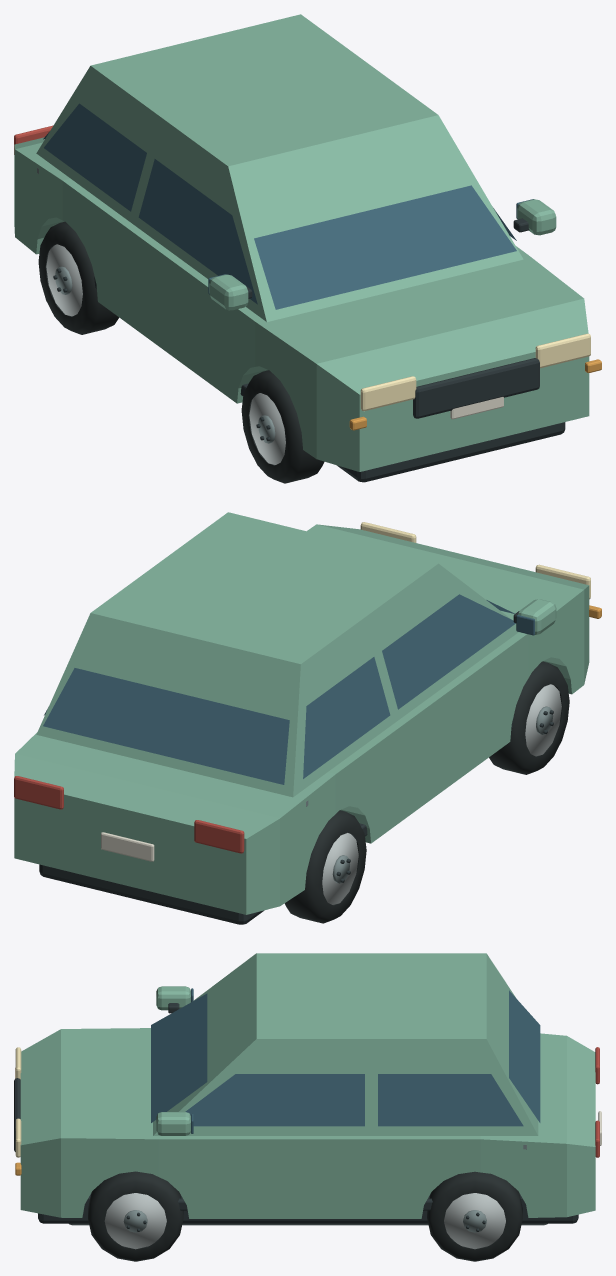
Rendered from original-car-hatch-01.glb.
3 views of the same model, one above another, from view 1: azimuth 30°, elevation 25°; view 2: azimuth 150°, elevation 25°; view 3: azimuth 270°, elevation 25° (orthographic). The views are drawn at different scales.
Visible parts, largest first — view 1: BodyShell, CabinShell, Windscreen, WindowFront, WindowRear, Grille, Tyre_FR, Tyre_RR, Frame, Rim_FR, Rim_RR, Headlamp (+3 smaller); view 2: BodyShell, CabinShell, RearGlass, WindowFront, WindowRear, Tyre_RR, Tyre_FR, Frame, Rim_FR, Rim_RR, TailLamp, TailLamp.001 (+2 smaller); view 3: BodyShell, CabinShell, WindowFront.001, WindowRear.001, Windscreen, Tyre_FL, Tyre_RL, RearGlass, Rim_RL, Rim_FL, Frame, Underbody (+2 smaller).
Boxes of the visible parts, x1,y1,x2,y2 form: BodyShell: [14, 137, 589, 471]; CabinShell: [36, 14, 523, 321]; Windscreen: [254, 185, 516, 309]; WindowFront: [138, 159, 257, 304]; WindowRear: [44, 103, 146, 211]; Grille: [413, 358, 539, 418]; Tyre_FR: [241, 370, 324, 483]; Tyre_RR: [38, 221, 118, 334]; Frame: [337, 422, 565, 482]; Rim_FR: [249, 393, 285, 464]; Rim_RR: [46, 244, 82, 316]; Headlamp: [360, 376, 416, 411]; BodyShell: [14, 524, 589, 914]; CabinShell: [36, 512, 518, 797]; RearGlass: [43, 668, 289, 784]; WindowFront: [382, 594, 515, 709]; WindowRear: [303, 657, 390, 778]; Tyre_RR: [284, 810, 366, 923]; Tyre_FR: [489, 661, 569, 774]; Frame: [39, 864, 264, 924]; Rim_FR: [525, 684, 561, 756]; Rim_RR: [322, 833, 358, 904]; TailLamp: [194, 820, 244, 853]; TailLamp.001: [14, 776, 63, 809]; BodyShell: [20, 1028, 595, 1218]; CabinShell: [153, 953, 538, 1135]; WindowFront.001: [185, 1074, 364, 1126]; WindowRear.001: [378, 1074, 523, 1126]; Windscreen: [151, 993, 207, 1122]; Tyre_FL: [88, 1171, 183, 1261]; Tyre_RL: [427, 1171, 522, 1261]; RearGlass: [509, 990, 540, 1122]; Rim_RL: [444, 1193, 505, 1249]; Rim_FL: [104, 1193, 166, 1249]; Frame: [38, 1193, 578, 1223]; Underbody: [69, 1223, 547, 1225].
Bounding box in the file's own units: 2 × 1.47 × 3.68.
